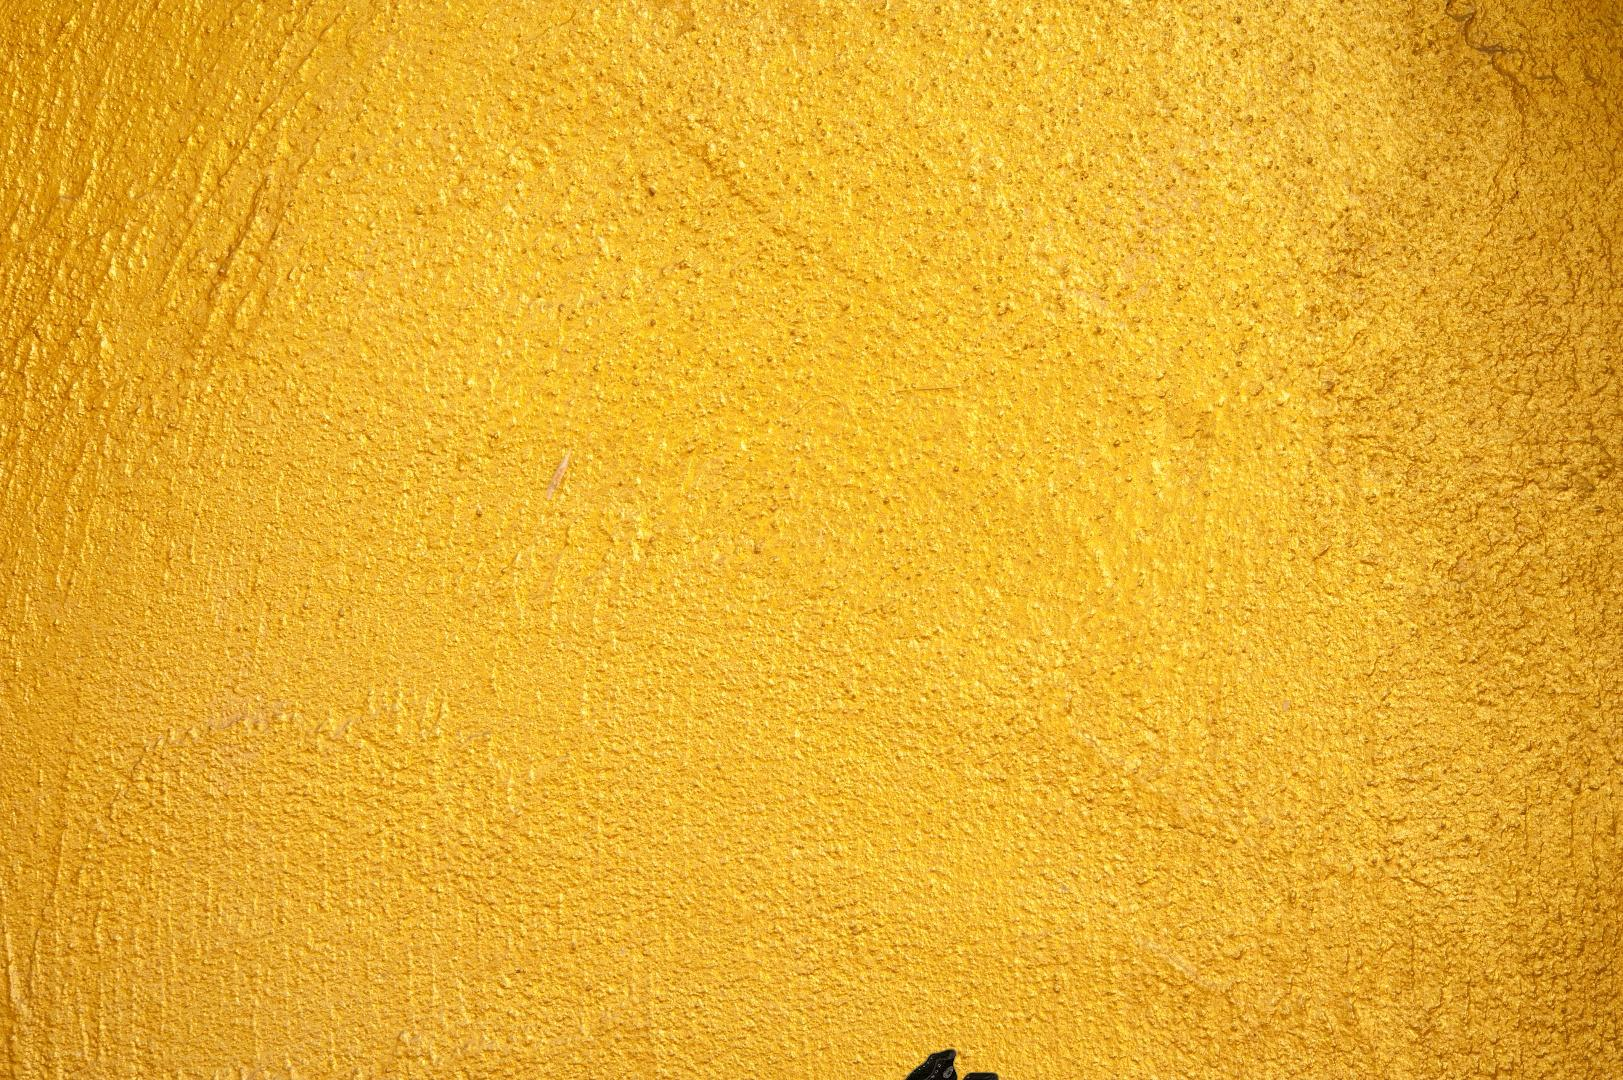shoes: (877, 1016, 1002, 1080)
